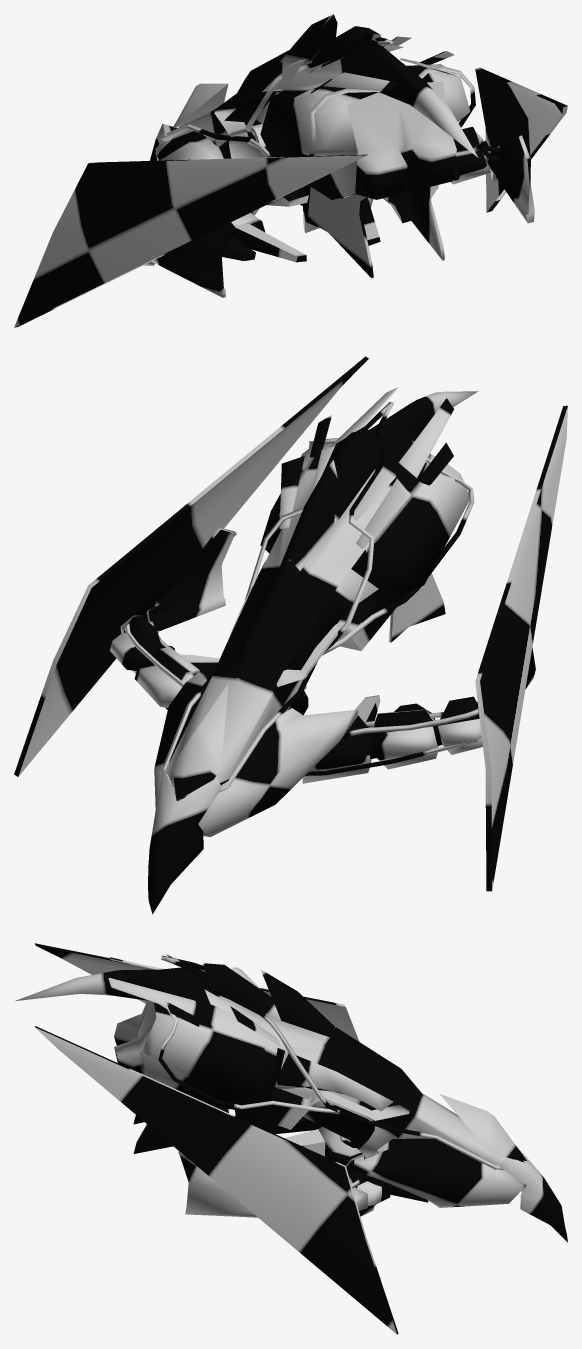
Rendered from scorcher.obj.
3 renders of one model, top to bottom at view 1: azimuth 30°, elevation 25°; view 2: azimuth 150°, elevation 25°; view 3: azimuth 270°, elevation 25°, orthographic. The views are drawn at different scales.
Visible parts, largest first — view 1: scorcher; view 2: scorcher; view 3: scorcher.
Part boxes in pixels (left/top/right/bottom): scorcher: left=14, top=14, right=567, bottom=327; scorcher: left=14, top=356, right=567, bottom=914; scorcher: left=14, top=943, right=567, bottom=1334.
Bounding box in the file's own units: 6.71 × 4.53 × 7.94.
Materials: 1 (1 with a texture image).
